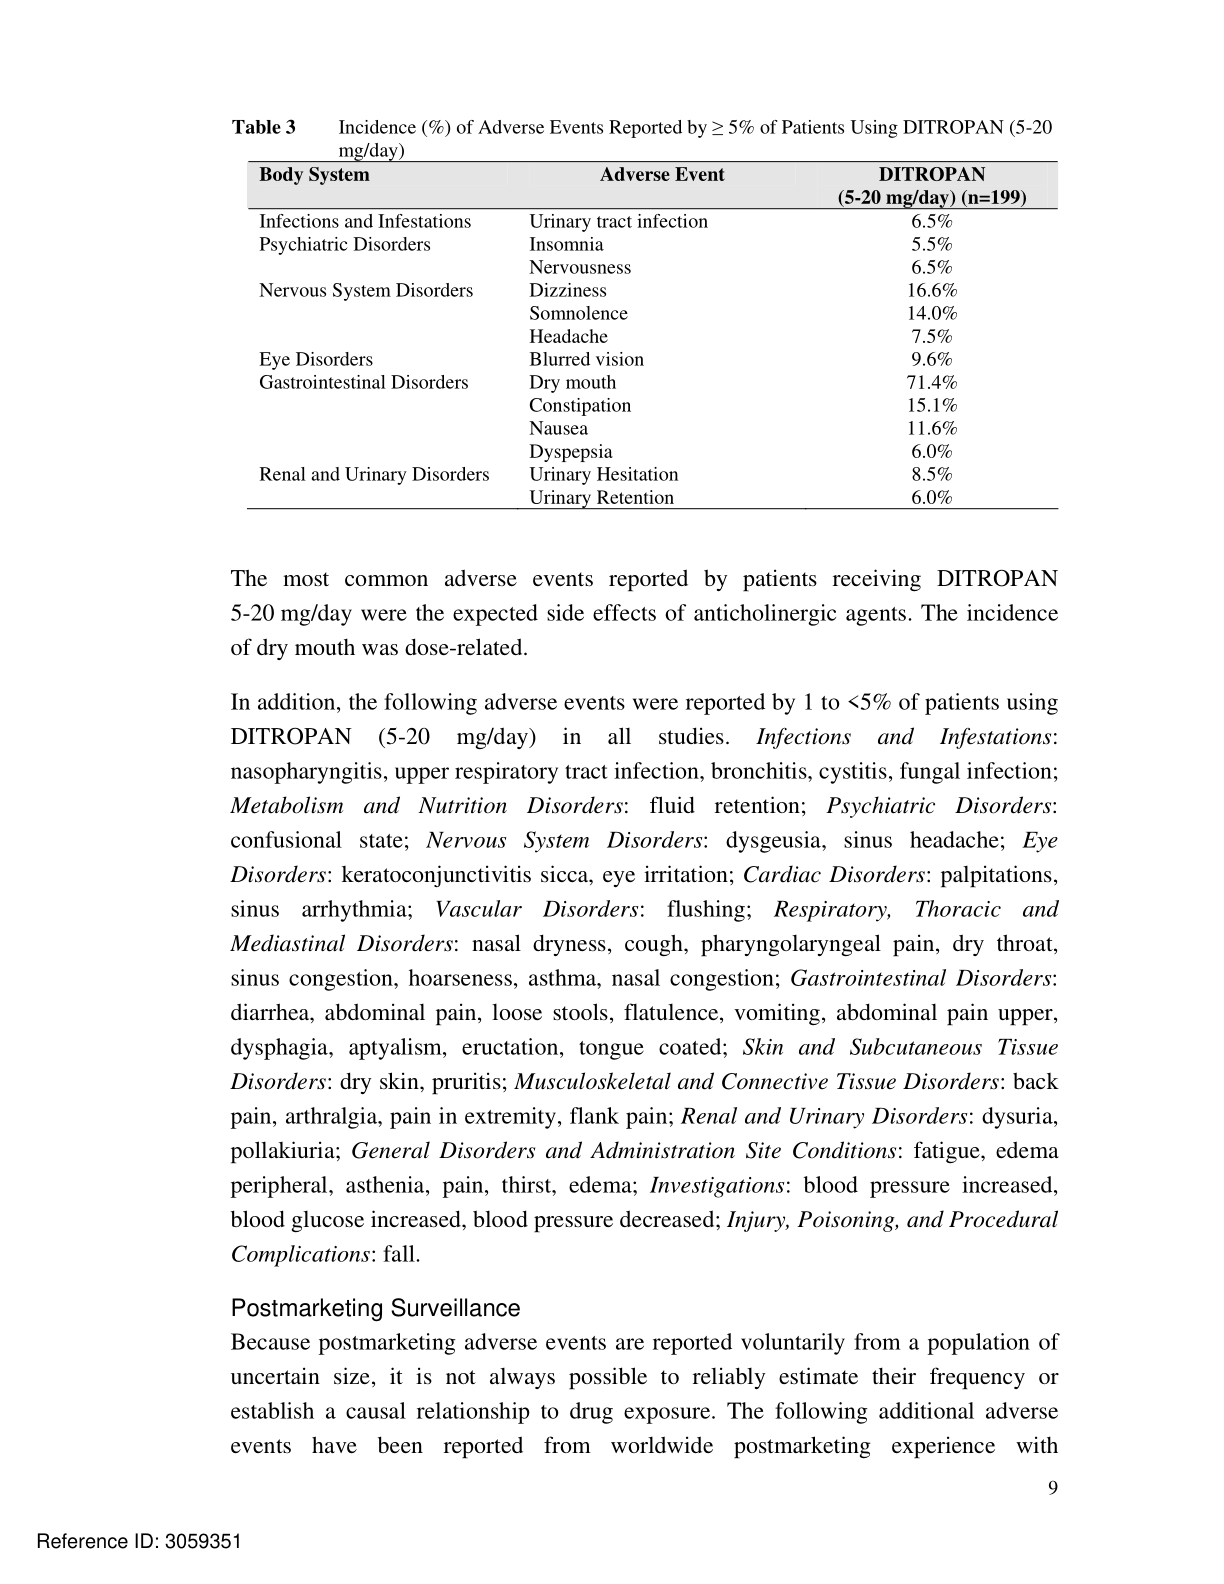partial_lined: (246, 159, 1058, 510)
